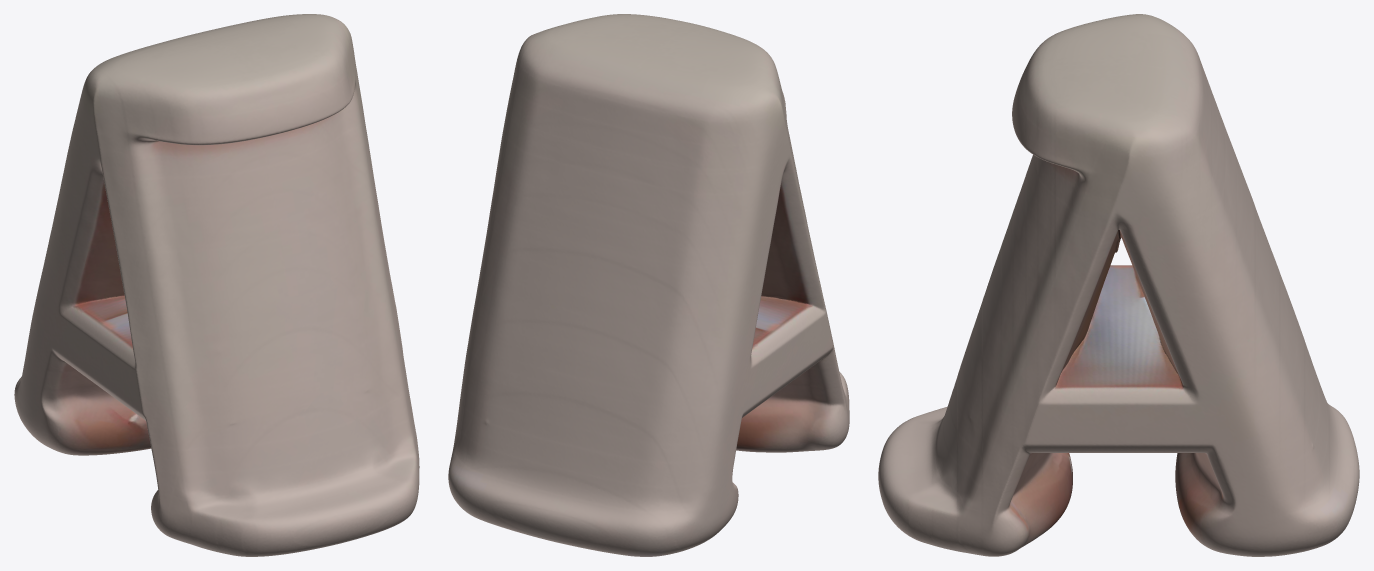
Rendered from letter-a.glb.
3 renders of one model, left to right at view 1: azimuth 30°, elevation 25°; view 2: azimuth 150°, elevation 25°; view 3: azimuth 270°, elevation 25°, orthographic. The views are drawn at different scales.
Parts seen in each view (by area): view 1: tripo_node_79ab5ea7-d1c4-4632-b3a4-c2c99e2a18a0; view 2: tripo_node_79ab5ea7-d1c4-4632-b3a4-c2c99e2a18a0; view 3: tripo_node_79ab5ea7-d1c4-4632-b3a4-c2c99e2a18a0.
Part boxes in pixels (x1,y1,x2,y2): tripo_node_79ab5ea7-d1c4-4632-b3a4-c2c99e2a18a0: (14,14,419,556); tripo_node_79ab5ea7-d1c4-4632-b3a4-c2c99e2a18a0: (448,14,849,556); tripo_node_79ab5ea7-d1c4-4632-b3a4-c2c99e2a18a0: (878,14,1359,556).
Bounding box in the file's own units: 0.6466 × 0.9992 × 1.
1 material, 1 textured.
